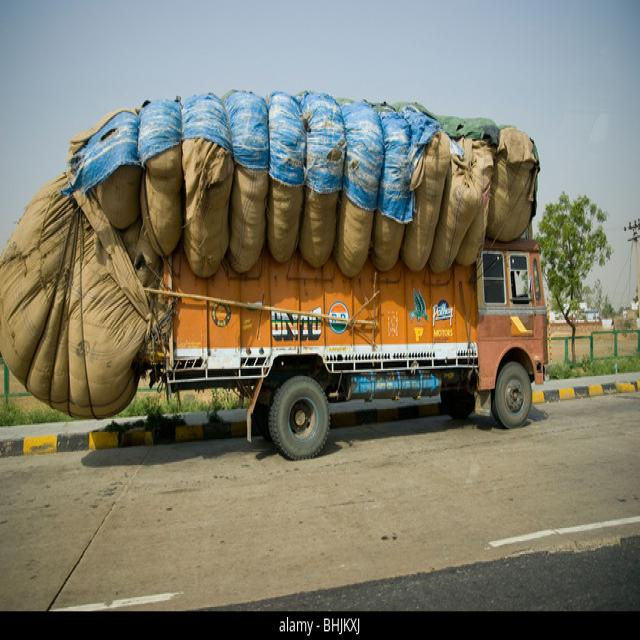normal_truck: (152, 240, 550, 461)
overloaded_truck: (0, 90, 540, 422)
